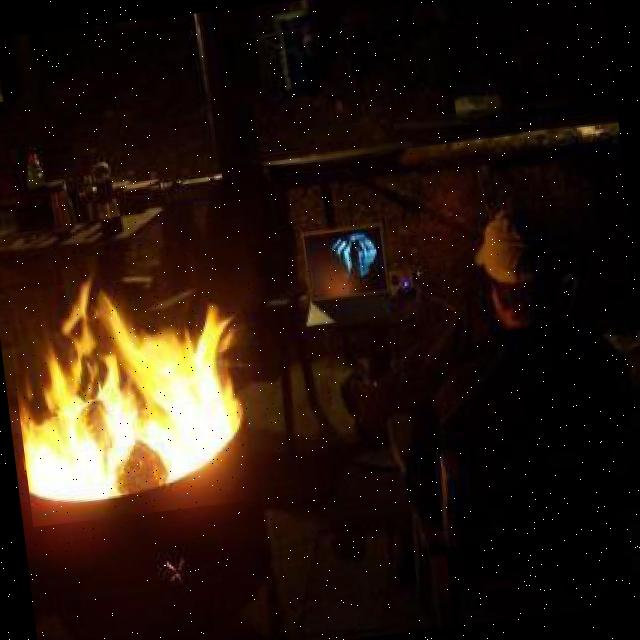fire: (1, 229, 333, 526)
